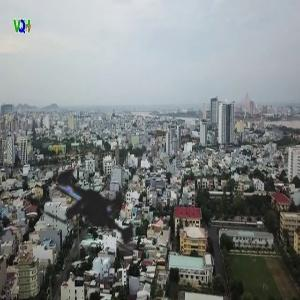drone: (2, 105, 195, 298)
